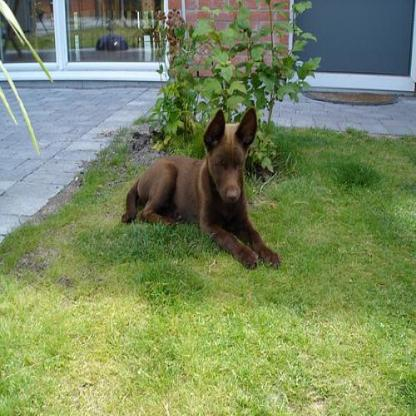kelpie: (118, 106, 281, 270)
